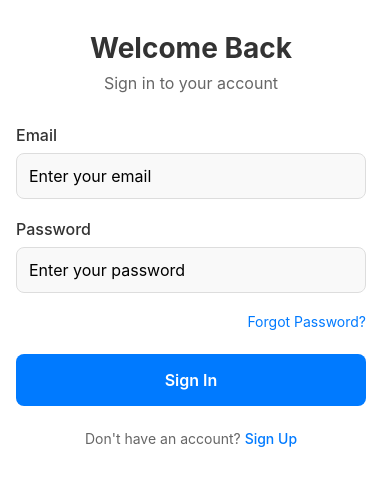
it: LoginScreen › Form Validation › should clear form errors when user corrects input
Note: First, trigger validation error
Click the text "Sign In" at (191, 380), box [165, 370, 217, 390]
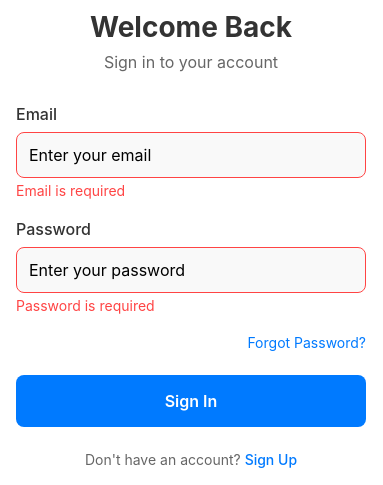
Expected: the text "Email is required" is shown, [16, 182, 125, 199]
Note: Then correct the input
Type "test@example.com" into the field with placeholder "Enter your email" at (191, 155), box [16, 132, 366, 178]
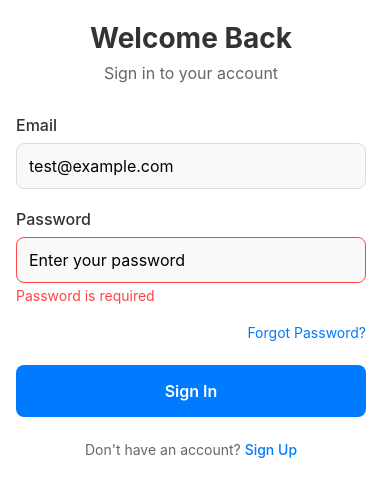
Expected: the text "Email is required" is gone
